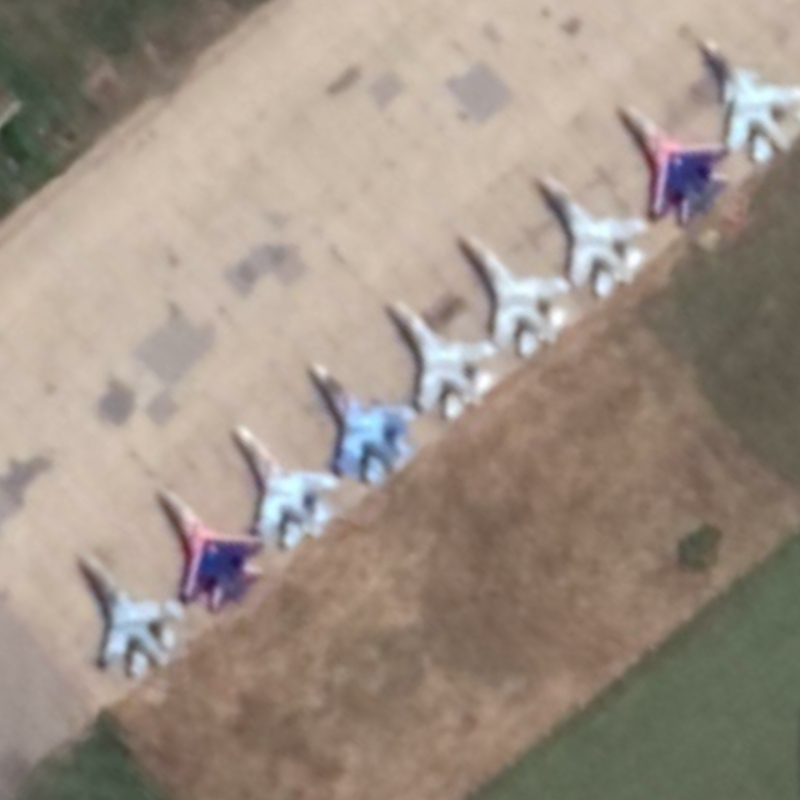A1: (458, 227, 574, 360), (534, 170, 652, 300), (618, 99, 734, 227), (229, 421, 342, 552), (154, 483, 267, 614), (306, 357, 419, 487), (76, 546, 186, 679), (389, 296, 500, 422)
A19: (702, 34, 800, 164)
